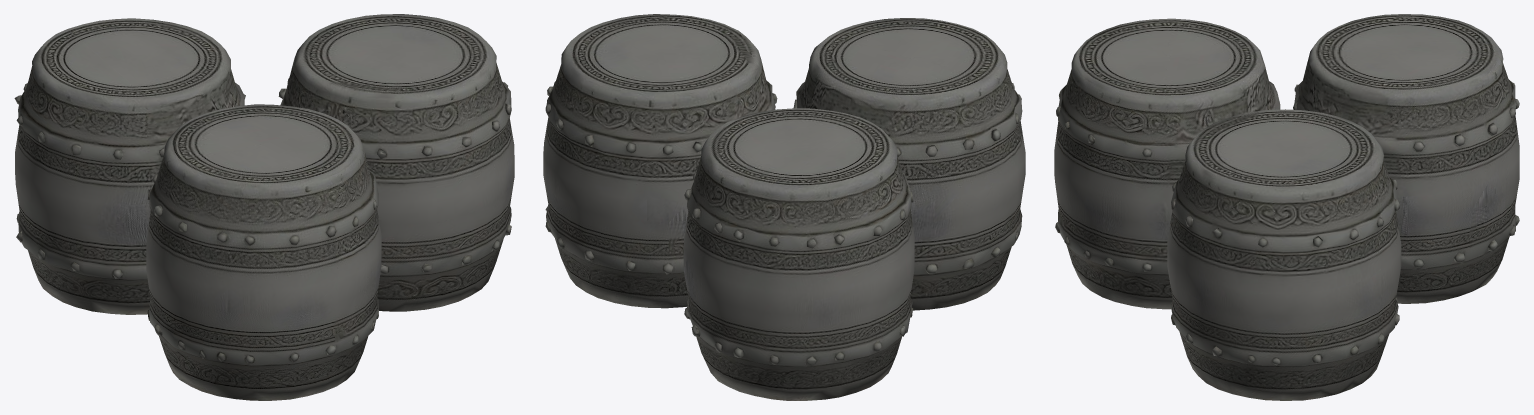
The model's file is drumstool.glb.
3 renders of one model, left to right at view 1: azimuth 30°, elevation 25°; view 2: azimuth 150°, elevation 25°; view 3: azimuth 270°, elevation 25°, orthographic. The views are drawn at different scales.
Parts seen in each view (by area): view 1: tripo_node_558e989b-58ca-4f5e-8b71-e64b39443a7e; view 2: tripo_node_558e989b-58ca-4f5e-8b71-e64b39443a7e; view 3: tripo_node_558e989b-58ca-4f5e-8b71-e64b39443a7e.
Boxes of the visible parts, x1,y1,x2,y2 form: tripo_node_558e989b-58ca-4f5e-8b71-e64b39443a7e: (14, 14, 514, 400); tripo_node_558e989b-58ca-4f5e-8b71-e64b39443a7e: (543, 14, 1025, 400); tripo_node_558e989b-58ca-4f5e-8b71-e64b39443a7e: (1054, 14, 1519, 400).
Bounding box in the file's own units: 0.9863 × 0.502 × 0.998.
1 material, 1 textured.
